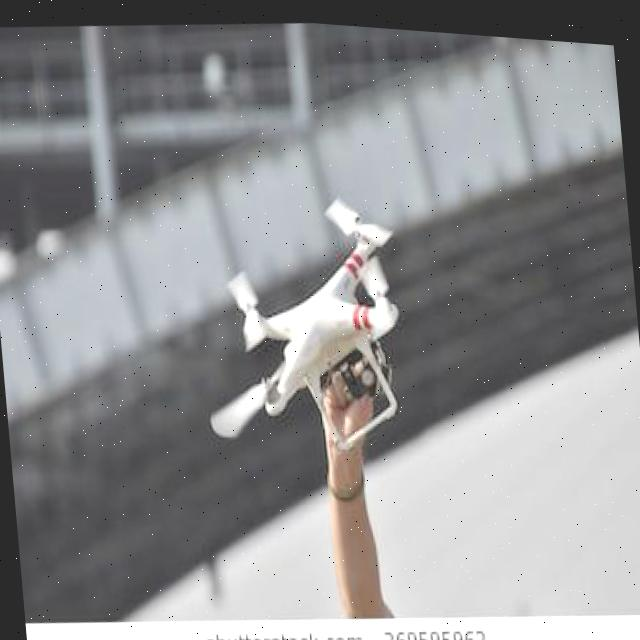drone: (101, 116, 505, 528)
